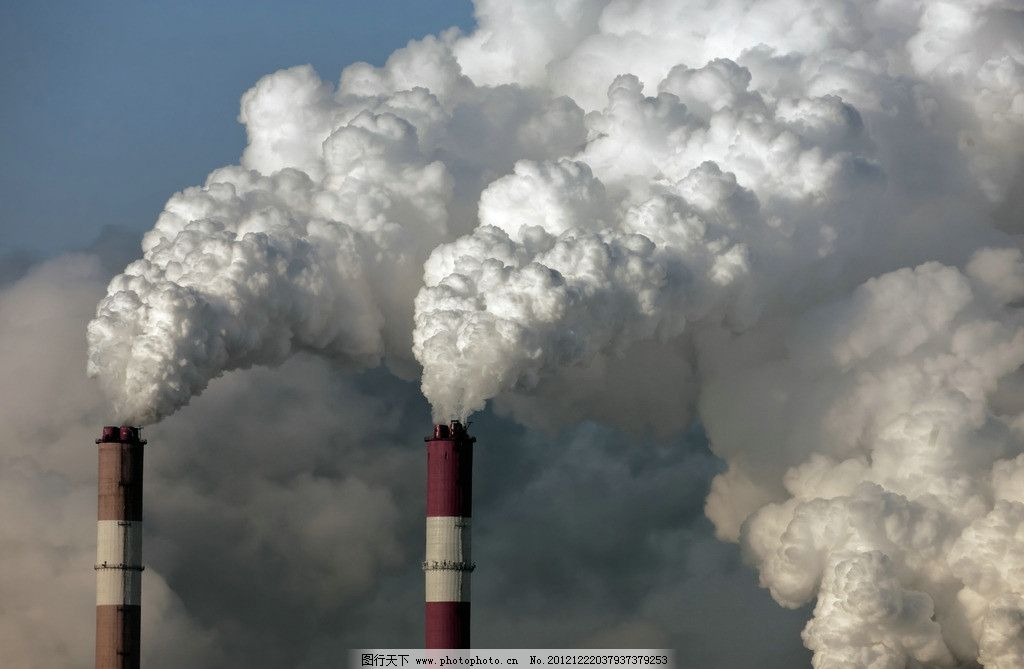dust: (405, 94, 766, 456), (82, 112, 367, 460)
